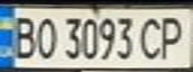0: (78, 14, 100, 61)
3: (115, 14, 139, 61), (60, 14, 81, 61)
9: (97, 14, 118, 61)
B: (6, 12, 39, 61)
C: (136, 14, 166, 61)
O: (33, 14, 60, 61)
P: (154, 12, 190, 61)
